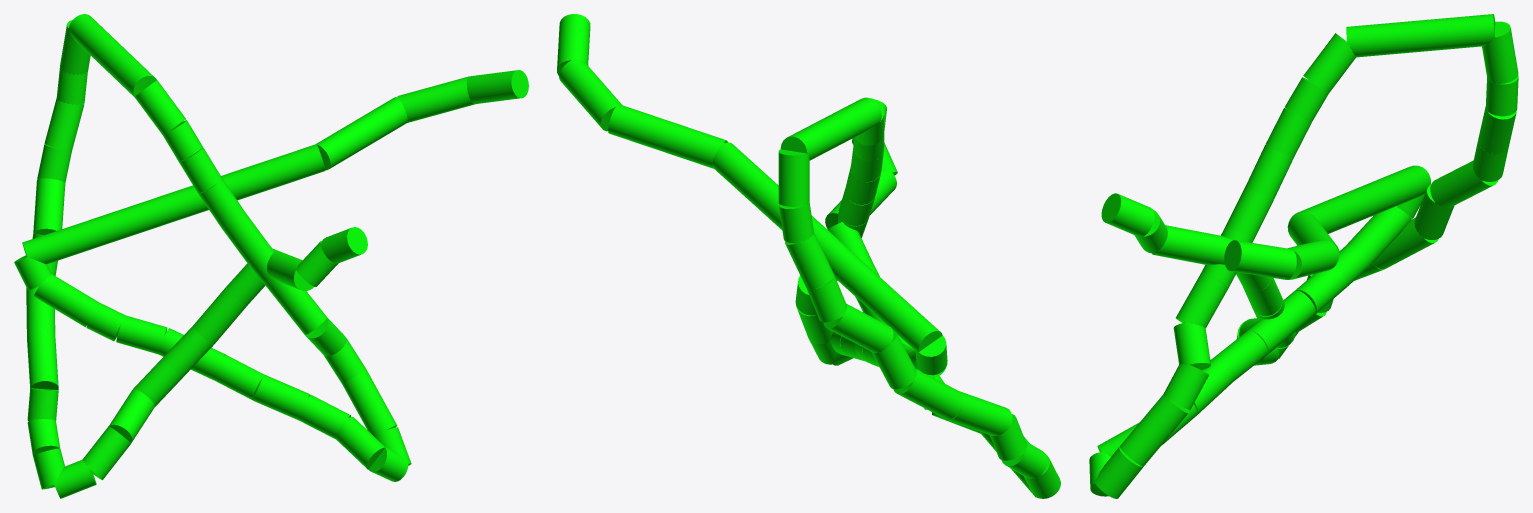
3 views of the same model, side by side, from view 1: azimuth 30°, elevation 25°; view 2: azimuth 150°, elevation 25°; view 3: azimuth 270°, elevation 25° (orthographic). The views are drawn at different scales.
Parts seen in each view (by area): view 1: Cylinder(Clone) (×46); view 2: Cylinder(Clone) (×23); view 3: Cylinder(Clone) (×34).
Boxes of the visible parts, box(x1,y1,x2,y2) form: Cylinder(Clone) (×46): box(14, 14, 528, 498); Cylinder(Clone) (×23): box(557, 14, 1060, 498); Cylinder(Clone) (×34): box(1089, 14, 1518, 498).
Size of the model in its own units: 0.1905 by 0.1452 by 0.1358.
